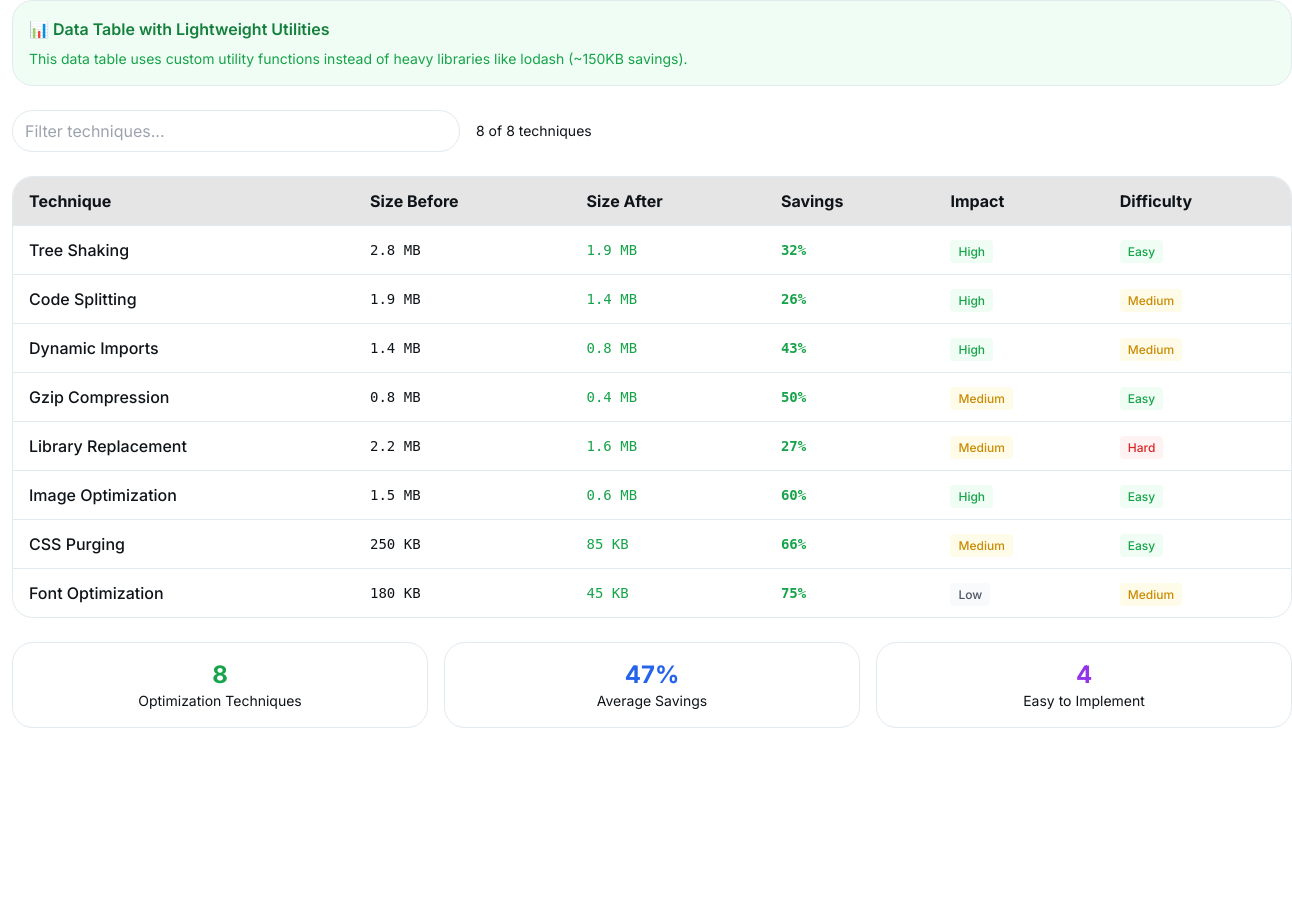
DataTable Component › filters techniques based on search input
This screenshot has width=1292, height=900.
# Filter for "Tree"
Type "Tree" into the field with placeholder "Filter techniques..." at [236, 131], box [12,110,460,152]
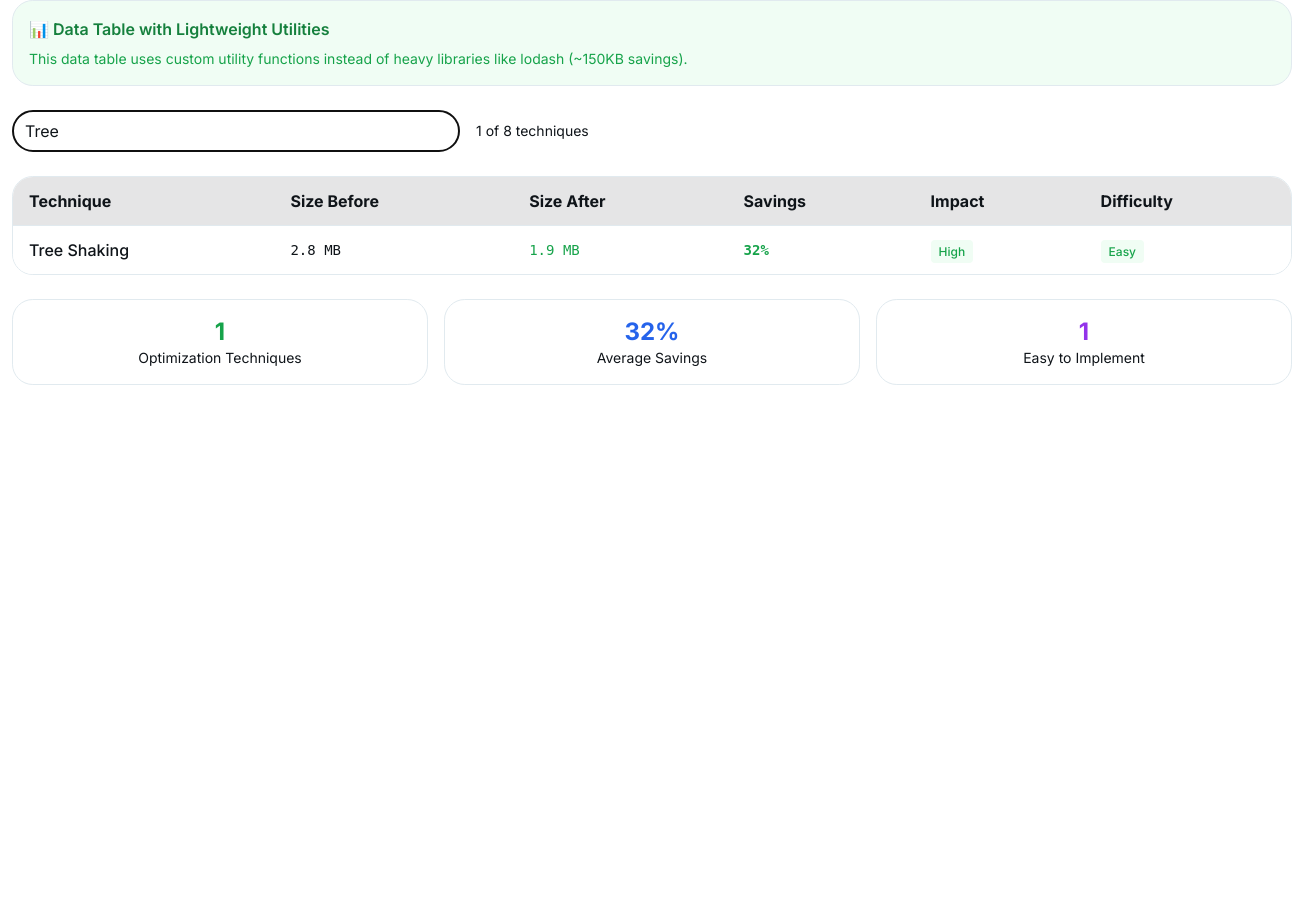
Expected: the text "Tree Shaking" is shown, [13,226,274,274]
Result: the text "Code Splitting" is gone
